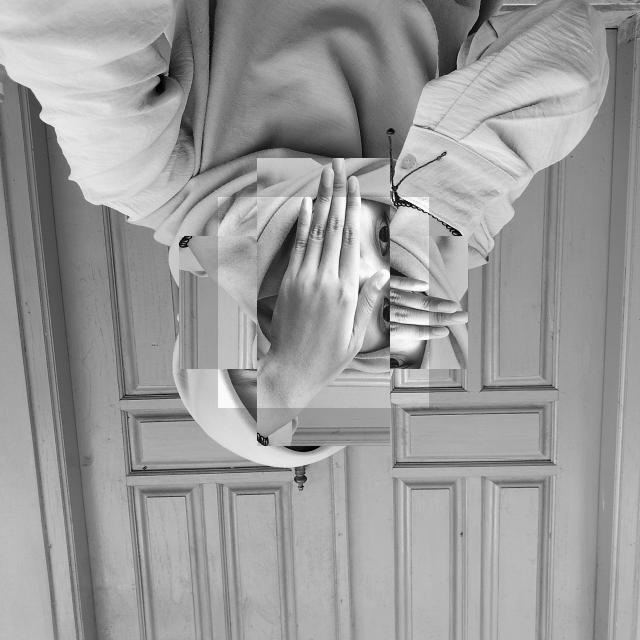buruk: (218, 197, 429, 408)
